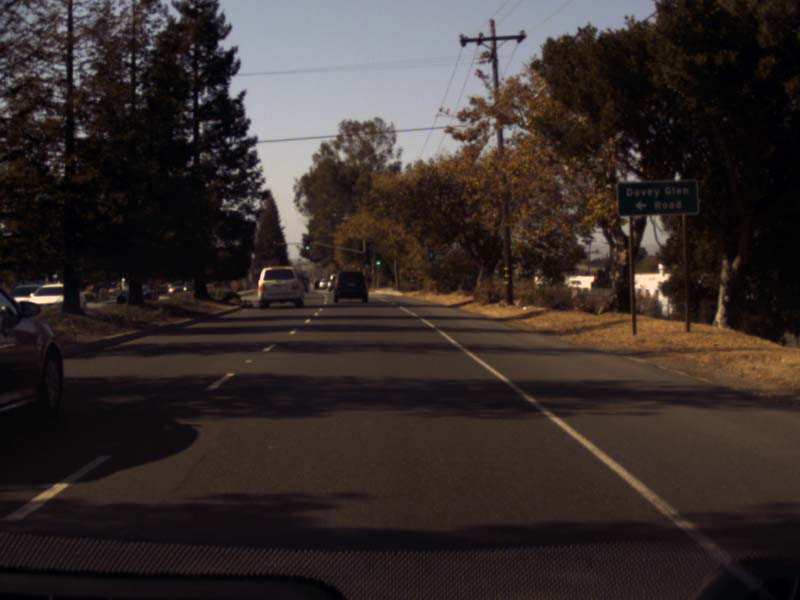Green: (374, 250, 381, 267), (304, 238, 310, 250)
Red: (271, 240, 275, 250)
